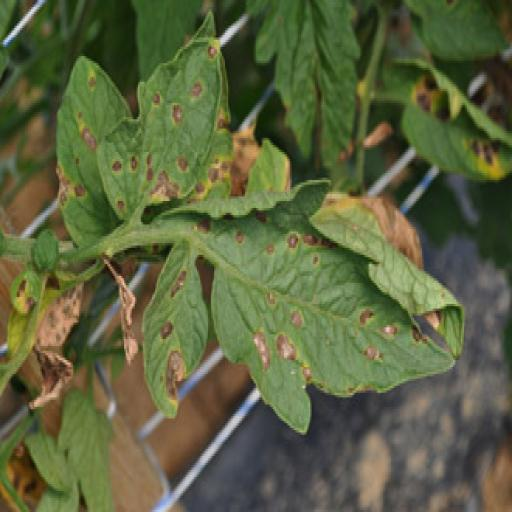disease_tomato: (209, 178, 465, 434), (96, 38, 232, 218), (56, 53, 134, 244), (396, 54, 512, 178), (138, 227, 210, 423)
